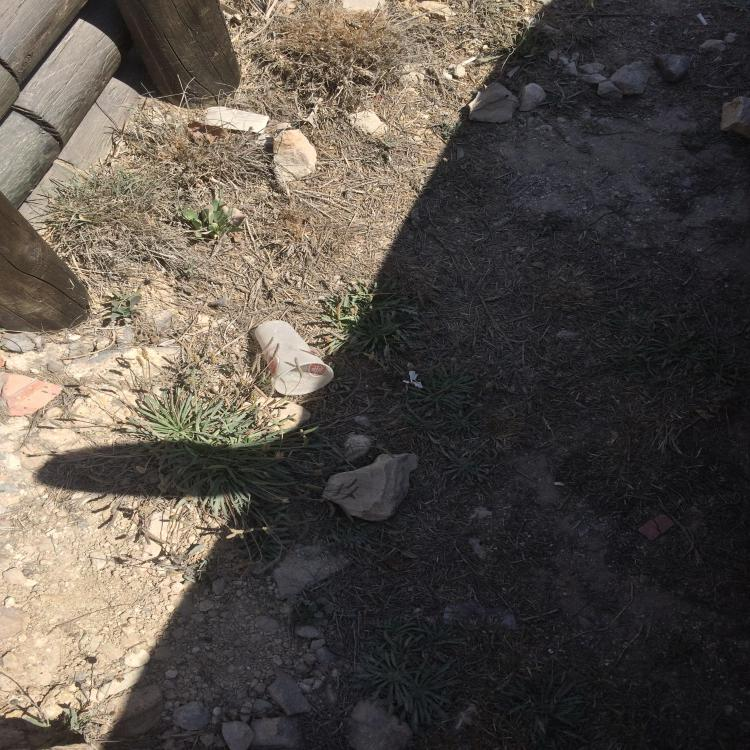Cigarette: (696, 12, 709, 26)
Disposable plastic cup: (255, 320, 334, 395)
Normal paper: (205, 106, 269, 134)
